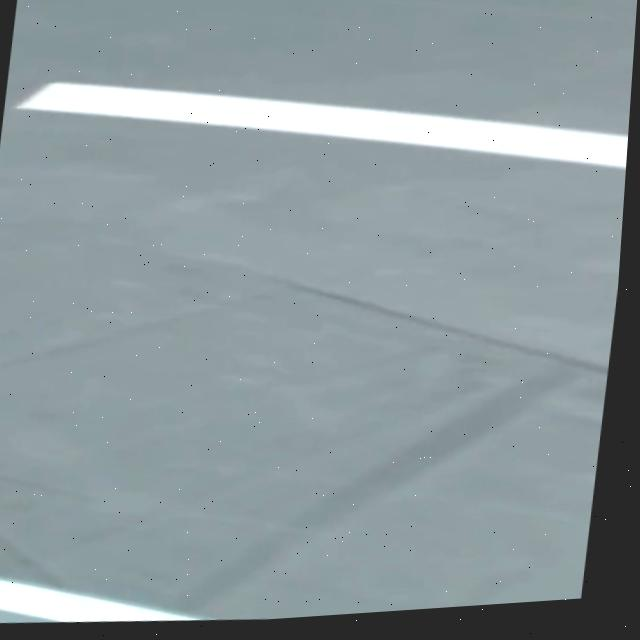center: (17, 83, 628, 170)
left: (0, 581, 209, 622)
